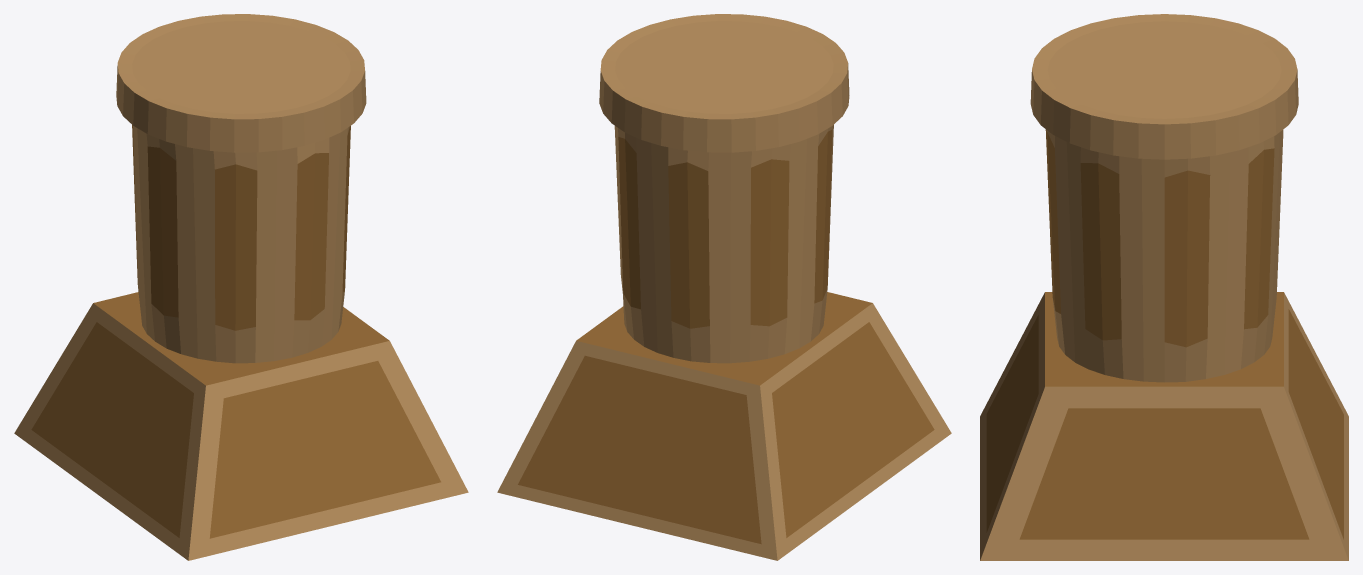
Rendered from statueStand.fbx.
The picture shows the model from 3 angles, left to right: view 1: azimuth 30°, elevation 25°; view 2: azimuth 150°, elevation 25°; view 3: azimuth 270°, elevation 25°; orthographic projection. The views are drawn at different scales.
Visible parts, largest first — view 1: Cube; view 2: Cube; view 3: Cube.
Part boxes in pixels (box(x1,y1,x2,y2)): Cube: box(14, 14, 468, 560); Cube: box(497, 14, 951, 560); Cube: box(980, 14, 1348, 560).
Bounding box in the file's own units: 416 × 562 × 448.
